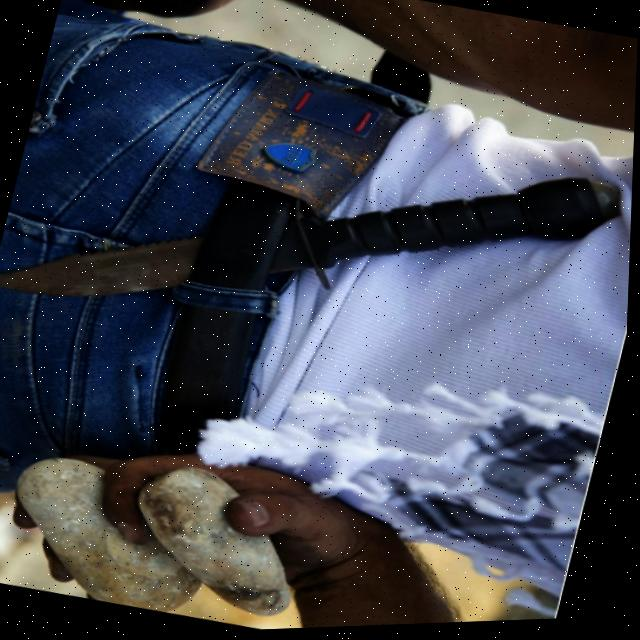knife: (0, 65, 633, 412)
